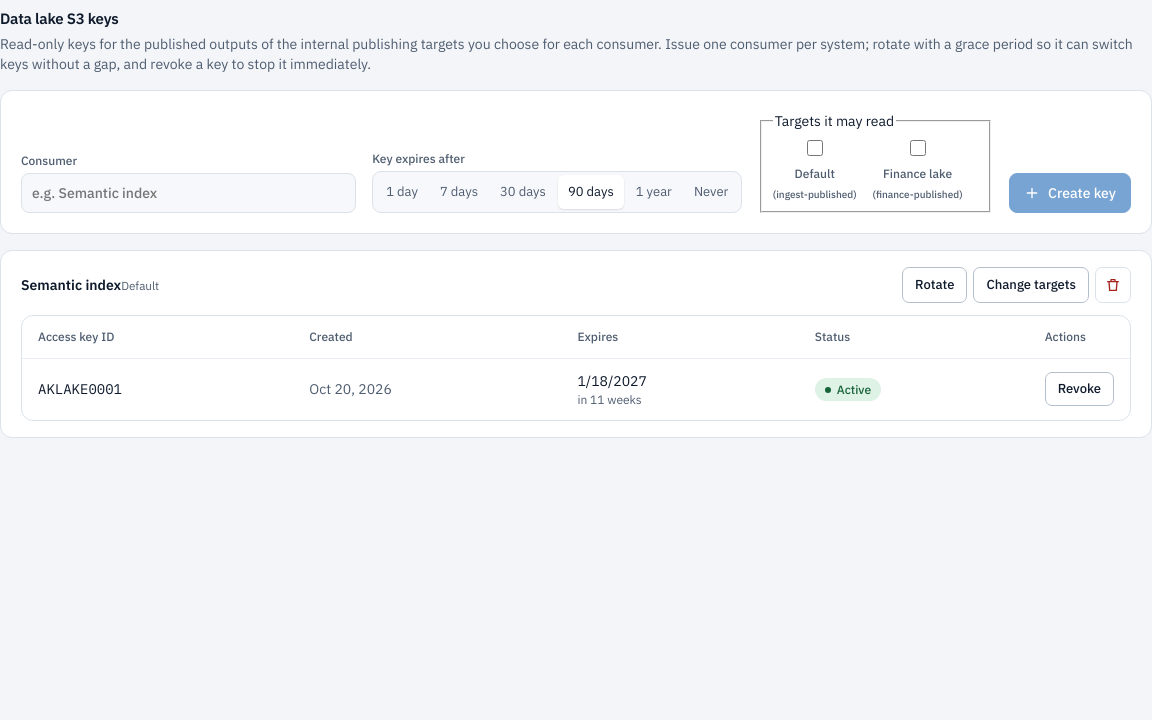
it: S3KeysSection › rotates with a grace period and shows the new key
The image size is (1152, 720).
Check: the element "Semantic index" is shown, box [0, 250, 1151, 438]
Step 1. Click the button "Rotate" → click(935, 285), box [902, 267, 968, 303]
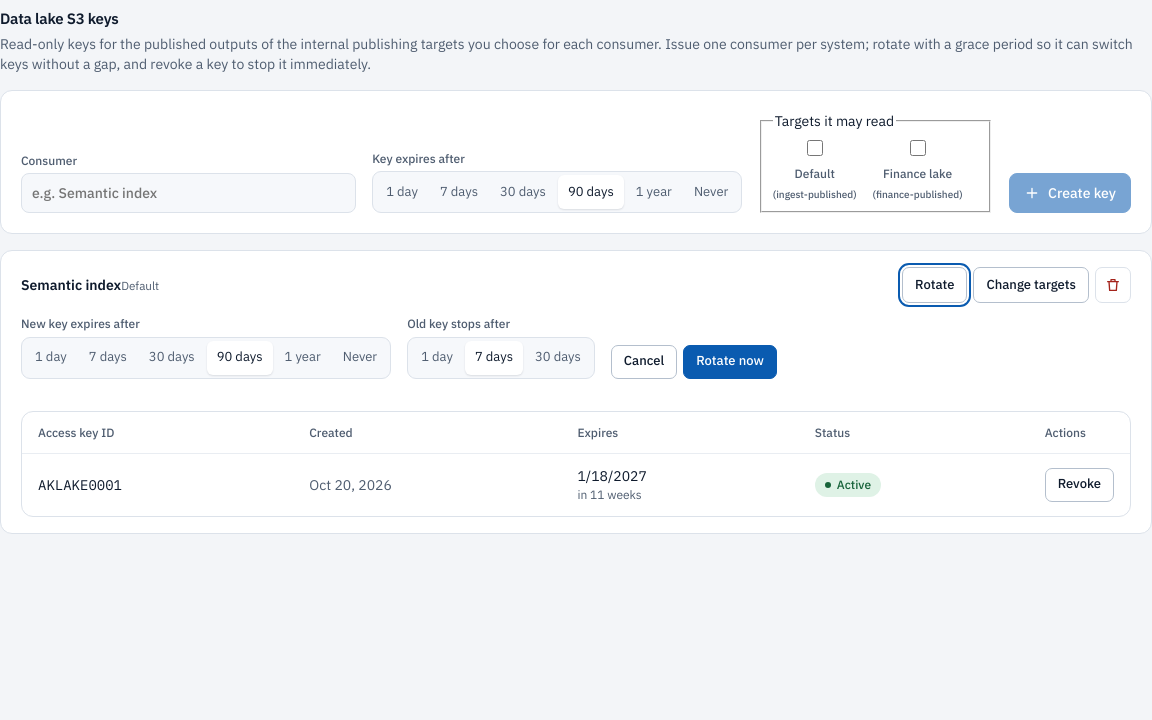
Step 2. Click the button "1 day" below "Old key stops after" → click(437, 358), box [411, 341, 463, 375]
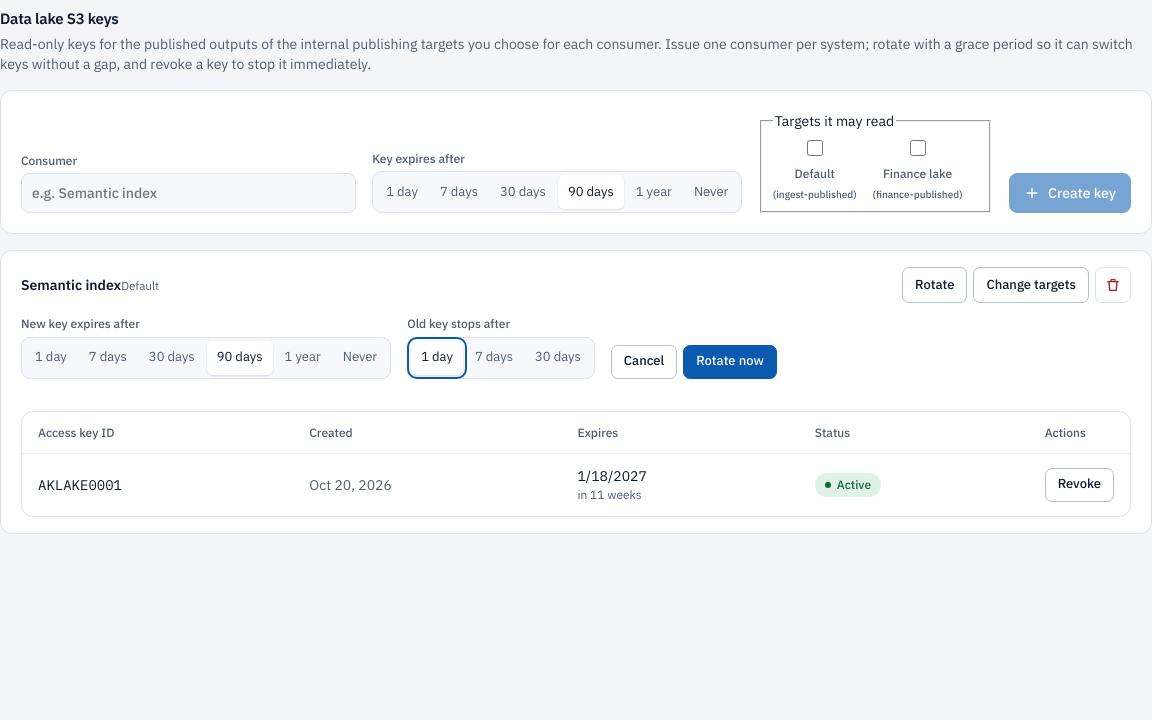
Step 3. Click the button "Rotate now" → click(730, 362), box [683, 345, 777, 379]
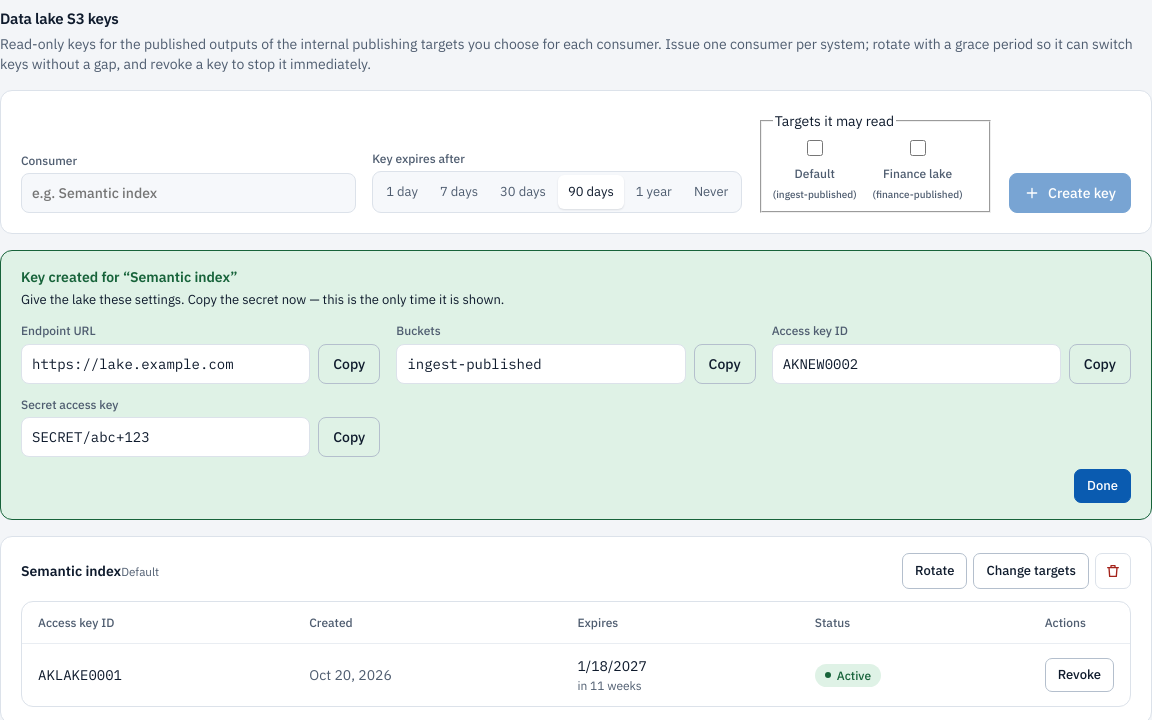
Check: the field labelled "Access key ID" holds "AKNEW0002", box [772, 344, 1061, 384]
